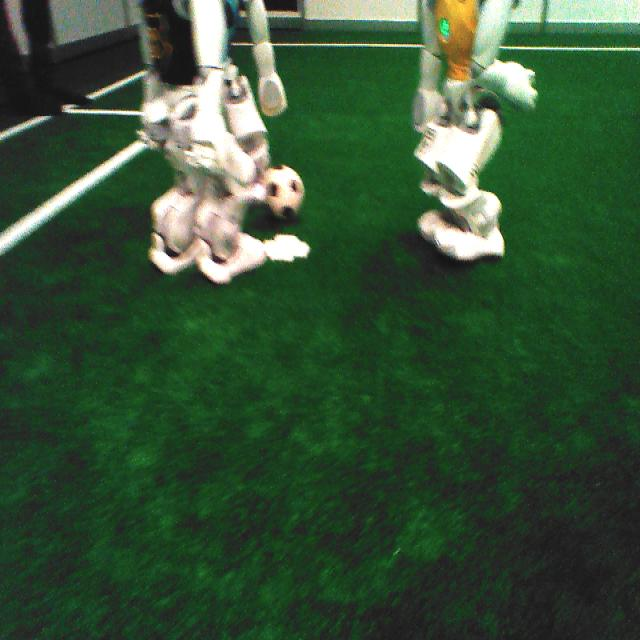ball: (261, 163, 306, 224)
